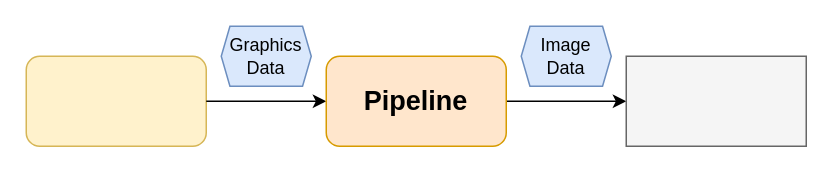
Image size: 833x173. Some labels were removed from this diagram. The shapes that lost their labels are listed below. From the top down, each one's box as (x1, y1, x2, y2) in pixels, then its label:
(25, 55, 206, 146): Application
(625, 55, 806, 146): The Screen
